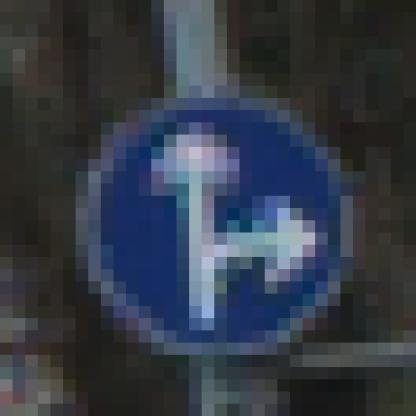Straight or Right: (77, 74, 354, 356)
